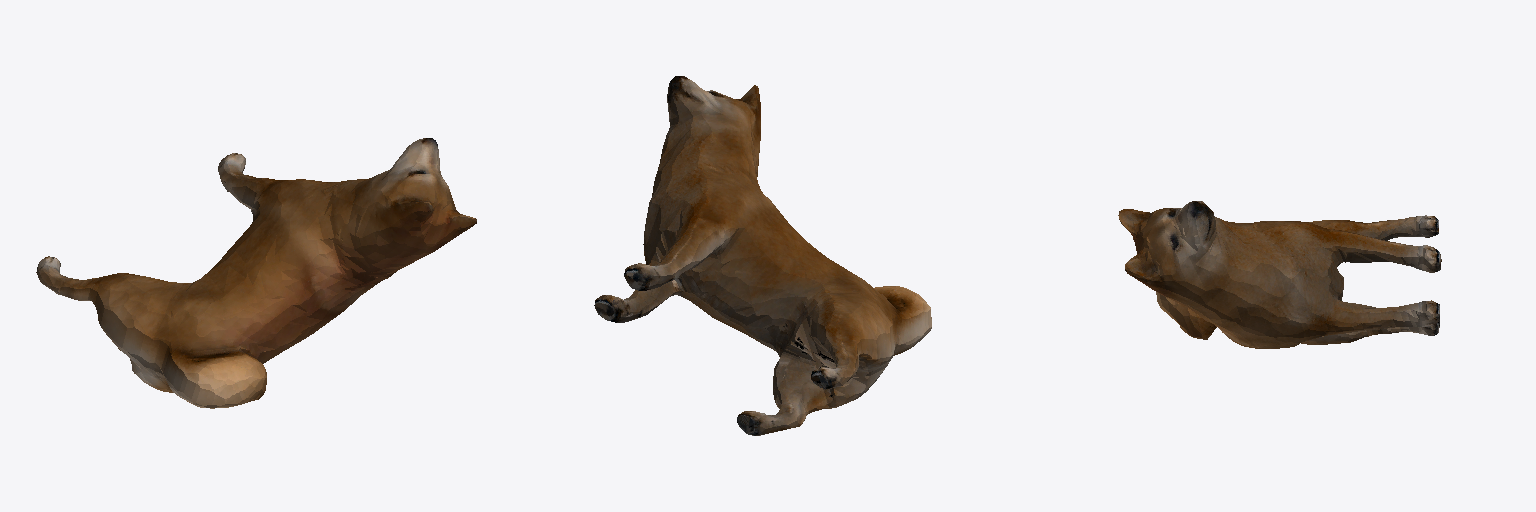
3 renders of one model, left to right at view 1: azimuth 30°, elevation 25°; view 2: azimuth 150°, elevation 25°; view 3: azimuth 270°, elevation 25°, orthographic.
Bounding box in the file's own units: 0.5437 × 0.418 × 0.5214.
1 materials, 1 textured.